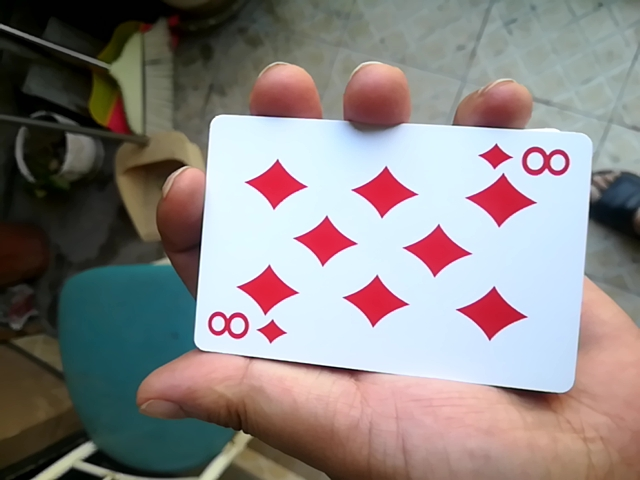fk 8: (173, 115, 597, 397)
